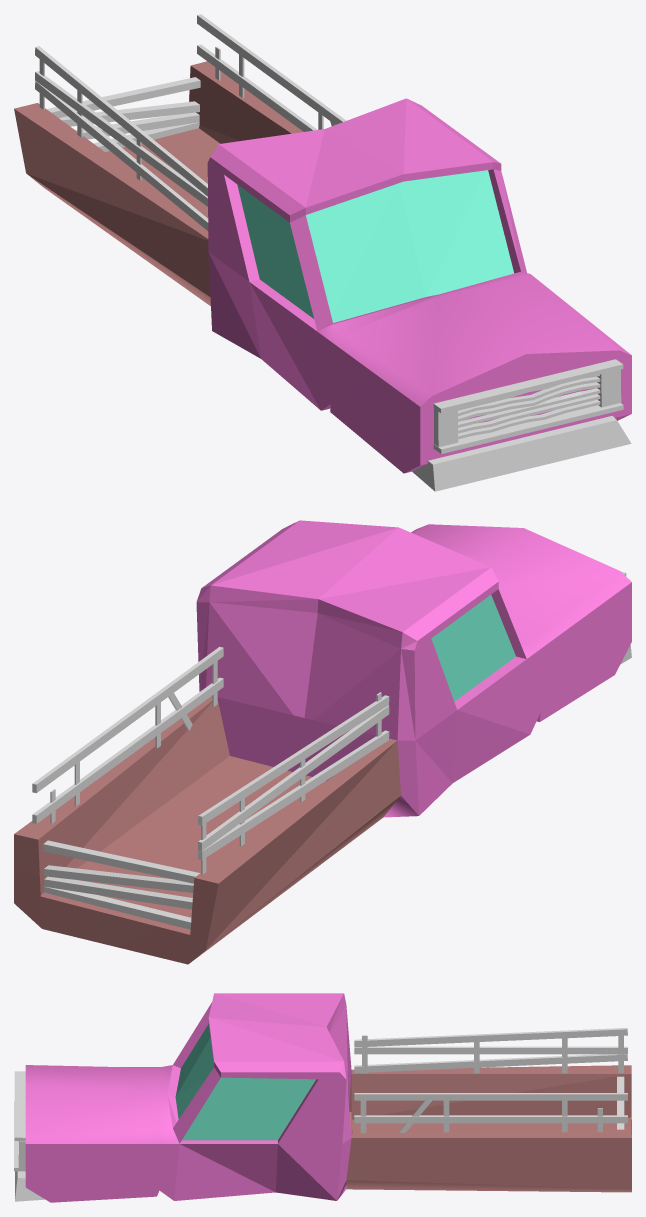
File: TankEnnemi.FBX
3 renders of one model, top to bottom at view 1: azimuth 30°, elevation 25°; view 2: azimuth 150°, elevation 25°; view 3: azimuth 270°, elevation 25°, orthographic. The views are drawn at different scales.
Parts seen in each view (by area): view 1: VoitureEnnemi, parchoque, Barrière; view 2: VoitureEnnemi, Barrière; view 3: VoitureEnnemi, Barrière, parchoque.
Part boxes in pixels (box(x1,y1,x2,y2)): VoitureEnnemi: box(14, 61, 631, 473); parchoque: box(412, 359, 631, 491); Barrière: box(35, 14, 346, 230); VoitureEnnemi: box(14, 520, 631, 964); Barrière: box(32, 646, 389, 929); VoitureEnnemi: box(25, 993, 631, 1202); Barrière: box(354, 1028, 627, 1133); parchoque: box(14, 1071, 44, 1201).
Bounding box in the file's own units: 421 × 382 × 1419.
